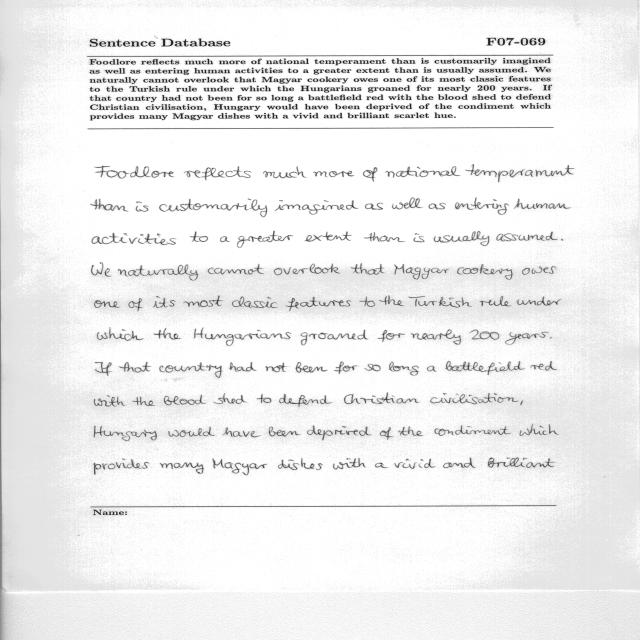word: (159, 199, 267, 218), (465, 165, 575, 182), (194, 328, 291, 346), (118, 264, 199, 281), (275, 200, 358, 215), (446, 361, 525, 375), (95, 166, 174, 179), (92, 233, 176, 245), (160, 362, 223, 378), (301, 330, 368, 345), (430, 393, 519, 404), (307, 426, 371, 441), (184, 167, 252, 181), (238, 231, 294, 248), (94, 426, 157, 441), (94, 458, 149, 475), (212, 459, 267, 476), (455, 198, 509, 215), (286, 297, 351, 311), (385, 166, 460, 178), (457, 264, 513, 280), (394, 264, 449, 280), (434, 425, 511, 436), (434, 231, 489, 246), (344, 393, 419, 404), (408, 296, 472, 308), (411, 330, 461, 345), (488, 457, 555, 468), (274, 264, 340, 275), (279, 394, 332, 407), (98, 327, 144, 341), (496, 232, 558, 242), (514, 198, 570, 209), (505, 332, 549, 345), (207, 264, 264, 274), (232, 296, 277, 308), (278, 458, 323, 470), (160, 462, 204, 474), (263, 167, 307, 178), (305, 232, 352, 242), (168, 427, 215, 437), (520, 424, 559, 436), (91, 199, 128, 211), (184, 296, 223, 307), (389, 362, 419, 376), (164, 395, 206, 405), (364, 232, 405, 242), (395, 459, 436, 469), (517, 297, 562, 306), (351, 263, 384, 275), (223, 428, 261, 438), (213, 393, 247, 404), (333, 458, 366, 469), (119, 362, 151, 373), (296, 362, 328, 373), (94, 396, 125, 407), (470, 329, 500, 340), (443, 458, 476, 468), (378, 330, 405, 342), (269, 427, 301, 437), (392, 198, 421, 209), (480, 296, 511, 306), (153, 329, 181, 340), (522, 266, 556, 275), (91, 263, 111, 277), (153, 296, 176, 308), (335, 362, 358, 374), (229, 362, 256, 372), (530, 361, 557, 371), (379, 296, 404, 306), (313, 171, 354, 177), (95, 362, 112, 376), (398, 427, 423, 436), (363, 167, 377, 182), (94, 300, 120, 308), (132, 397, 155, 406), (190, 231, 208, 242), (265, 363, 286, 372), (129, 299, 143, 312), (359, 296, 375, 307), (380, 427, 393, 440), (365, 203, 383, 210), (257, 394, 271, 403), (136, 202, 148, 212), (365, 364, 381, 371), (428, 203, 446, 209), (414, 234, 425, 243), (375, 463, 388, 468), (220, 236, 230, 242), (427, 366, 436, 372), (521, 401, 524, 406), (561, 239, 563, 240), (550, 337, 552, 338)
